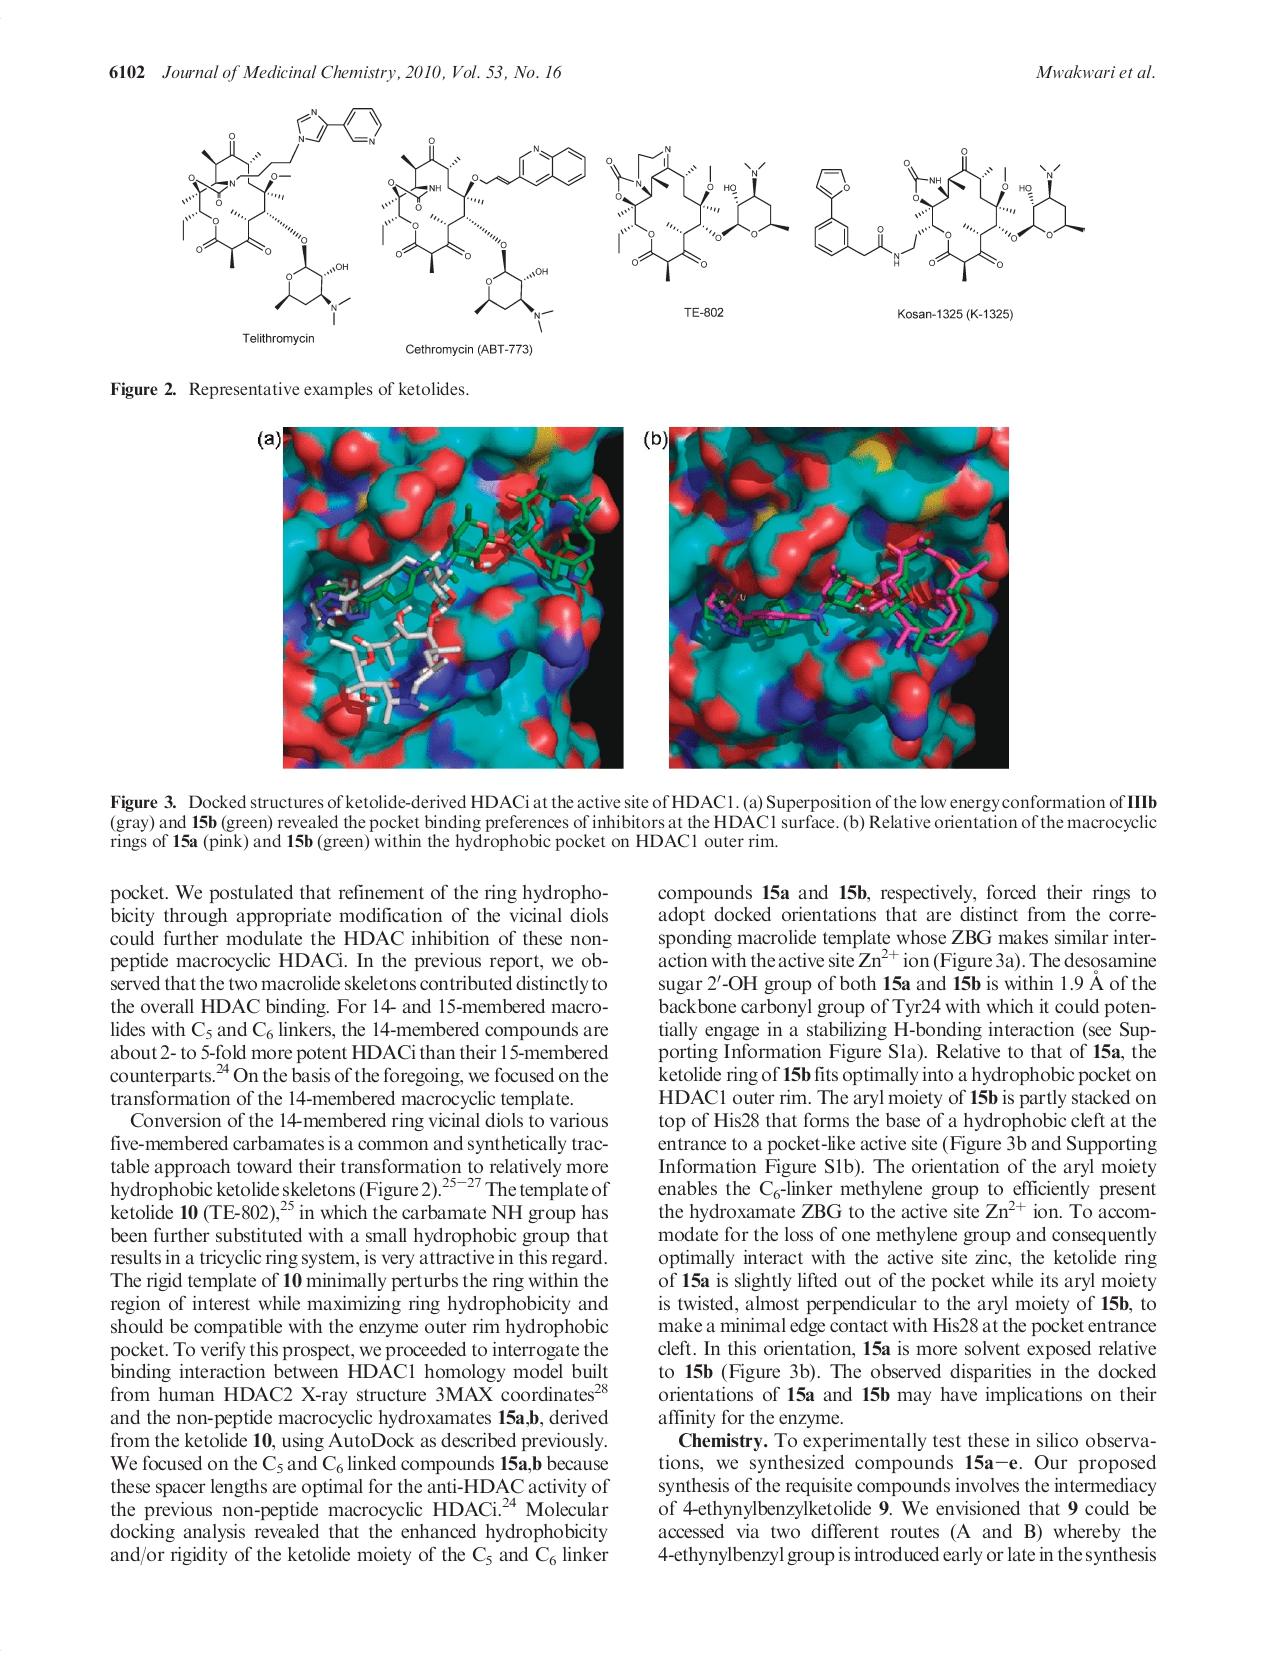exist_molecular: (176, 104, 384, 327), (378, 136, 589, 332), (813, 148, 1089, 283), (605, 142, 794, 285)
